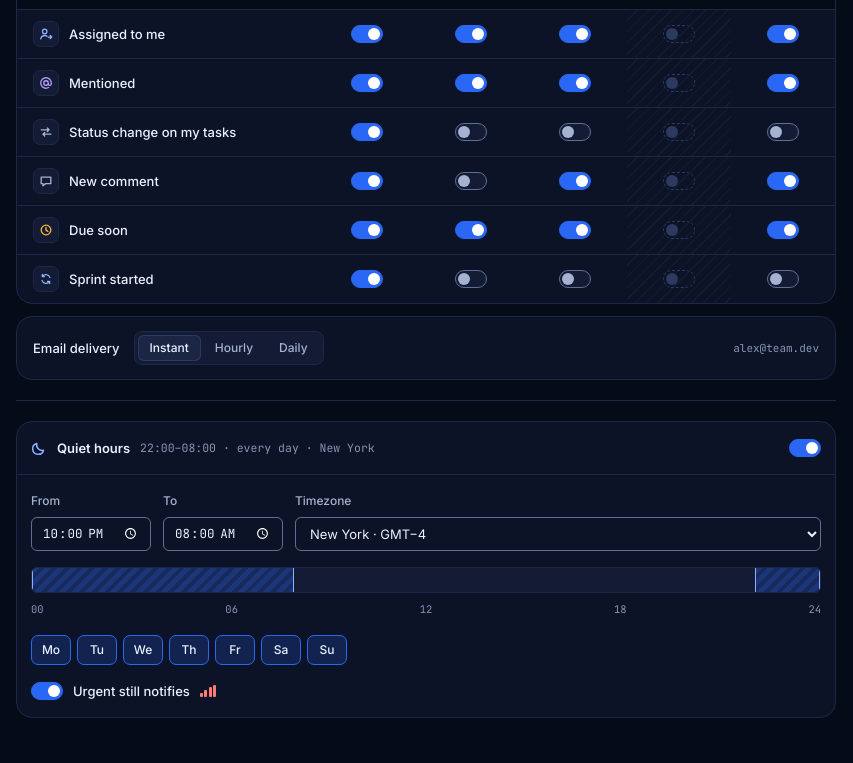
Test case: Notifications page › refuses From = To before saving
(page scrolled)
Replace the text in the time field named "Quiet until" with "22:00" at (223, 534), box [163,517,283,551]
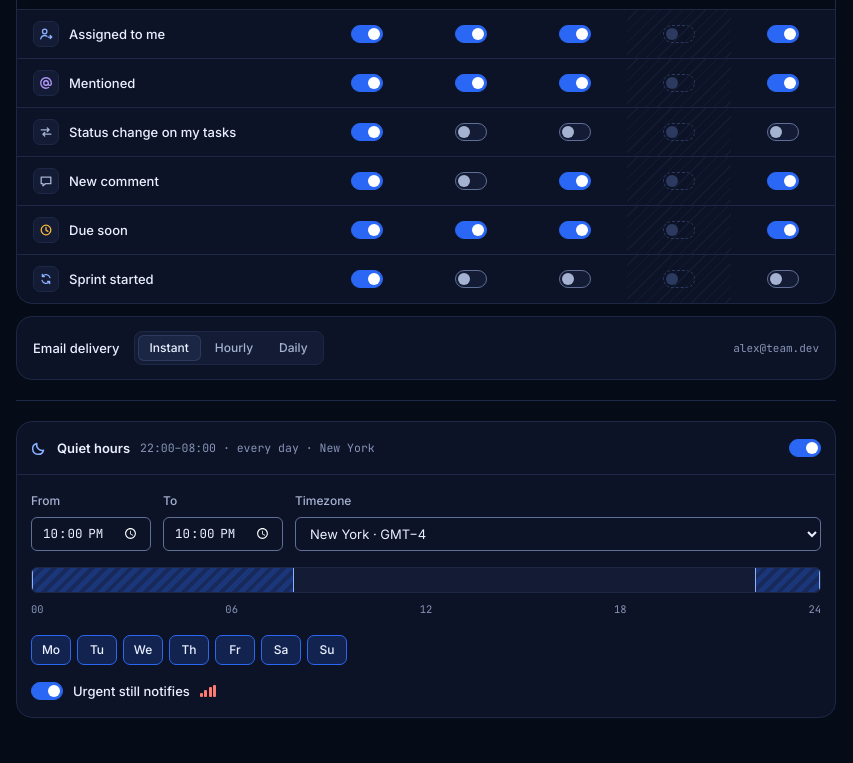
Leave the time field named "Quiet until", box [163,517,283,551]
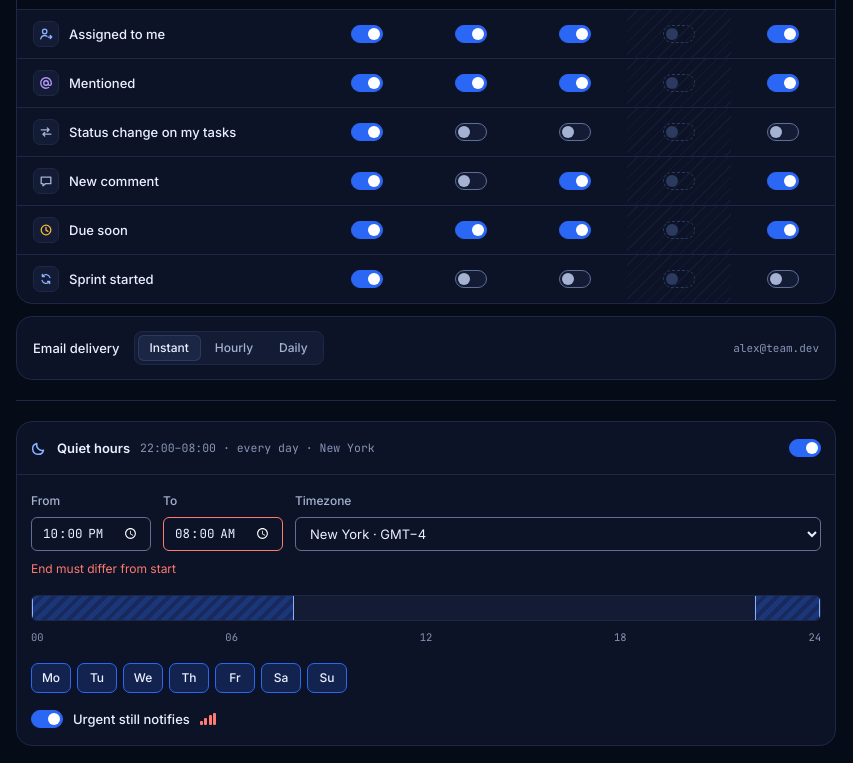
Now the text "End must differ from start" is shown, box [31,561,176,576]
